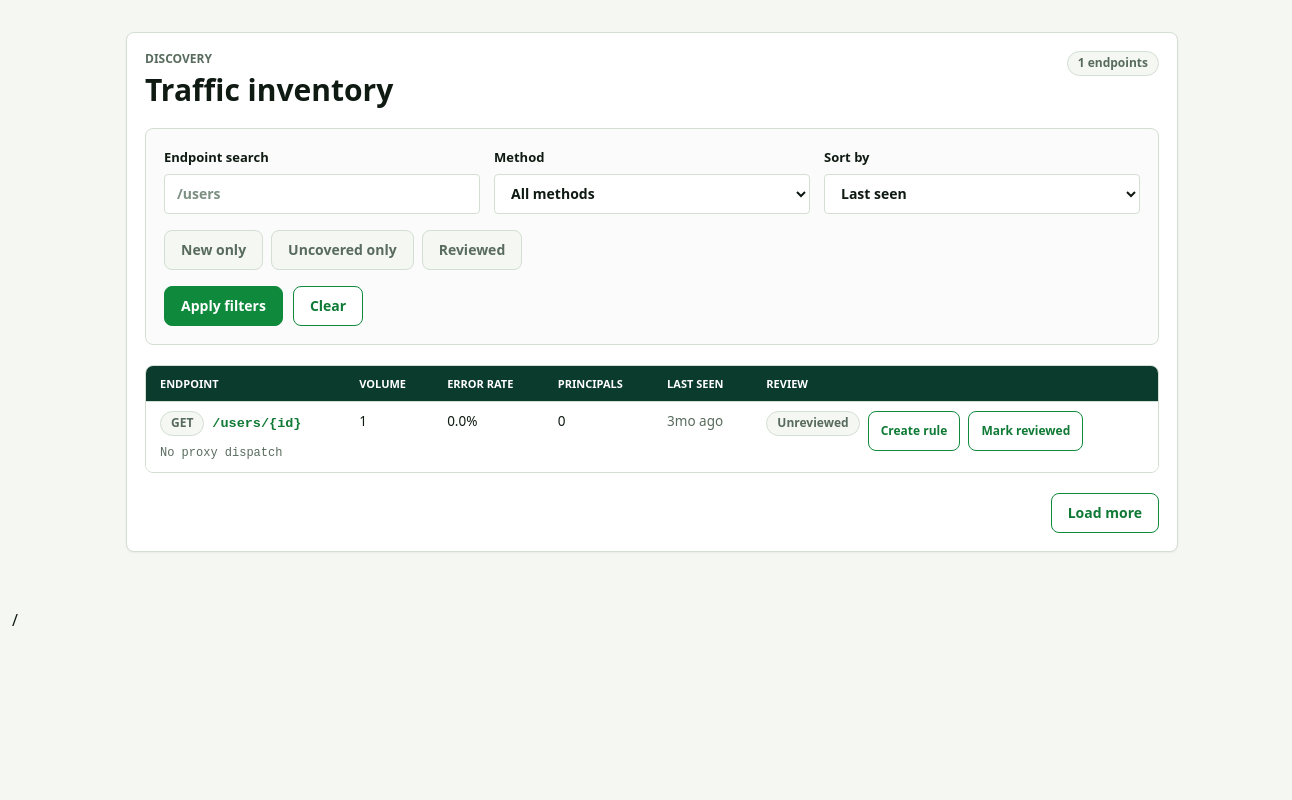
Scenario: TrafficInventory › loads the next cursor page and appends endpoints
Expected: the link "/users/{id}" is shown, [212,413,302,434]
Click the button "Load more" at (1105, 513), box [1051,493,1159,533]
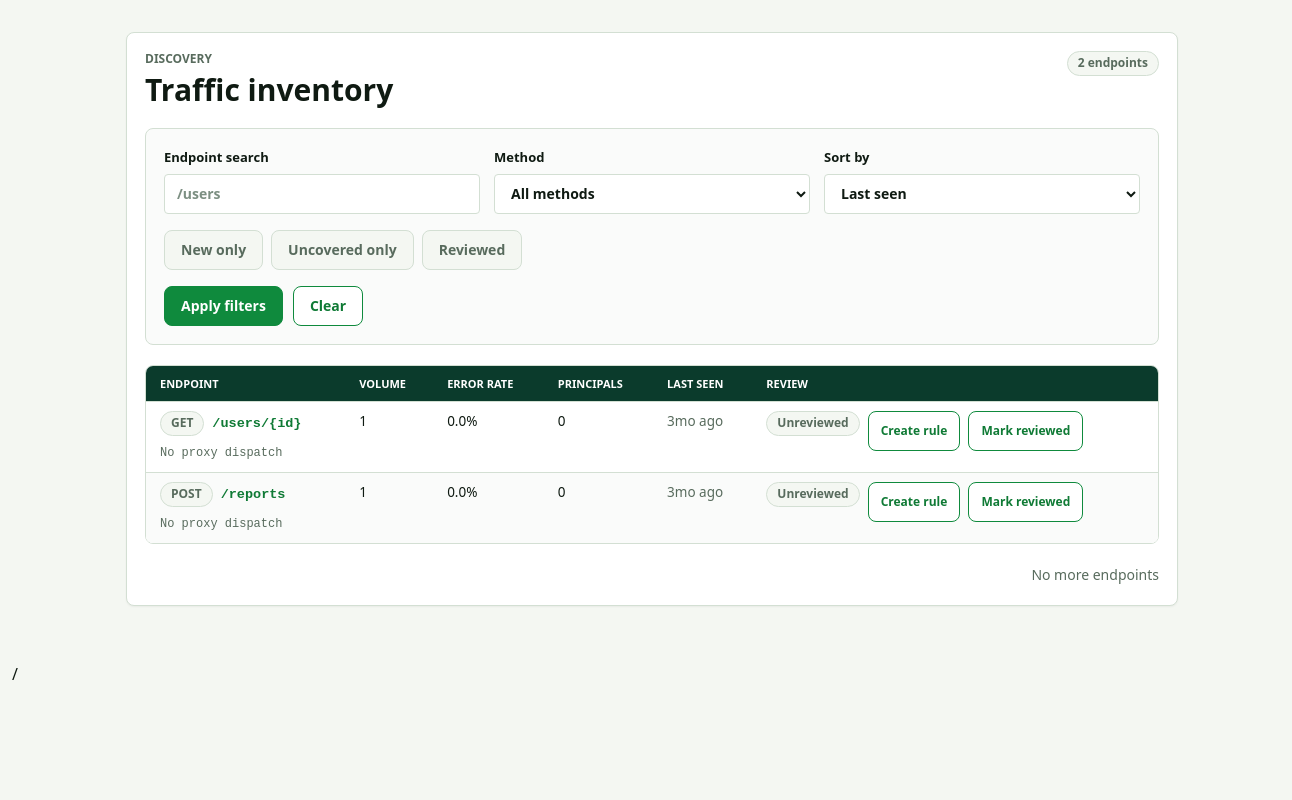
Expected: the link "/users/{id}" is shown, [212,413,302,434]
Result: the link "/reports" is shown at [221,484,286,505]
